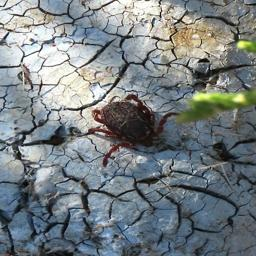Rhipicephalus sanguineus: (91, 94, 179, 167)
